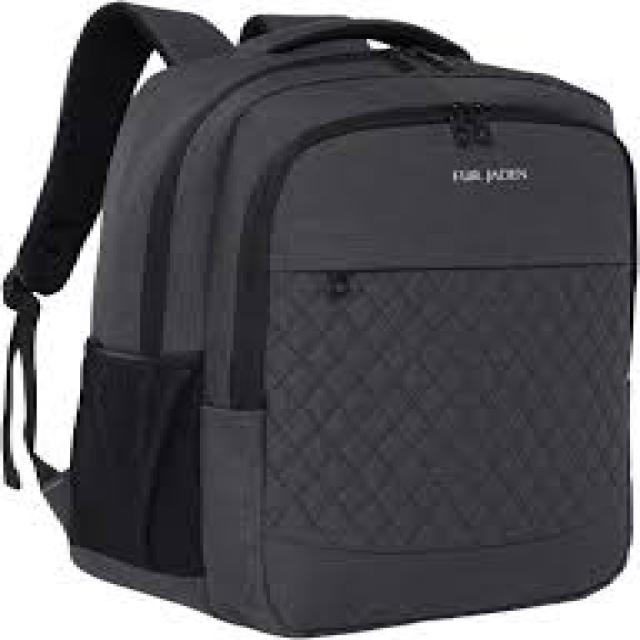backpack: (1, 1, 638, 636)
